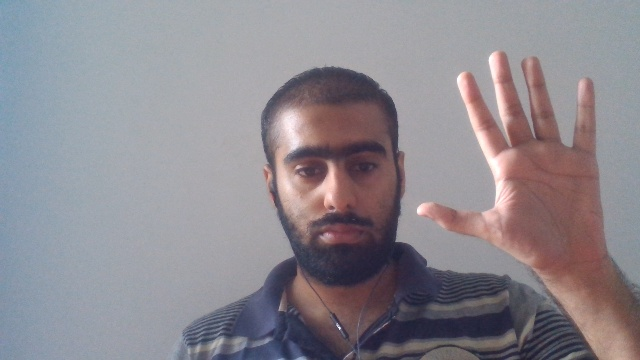paper: (415, 49, 607, 273)
